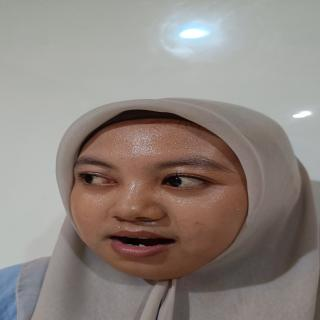Takut: (63, 111, 270, 288)
